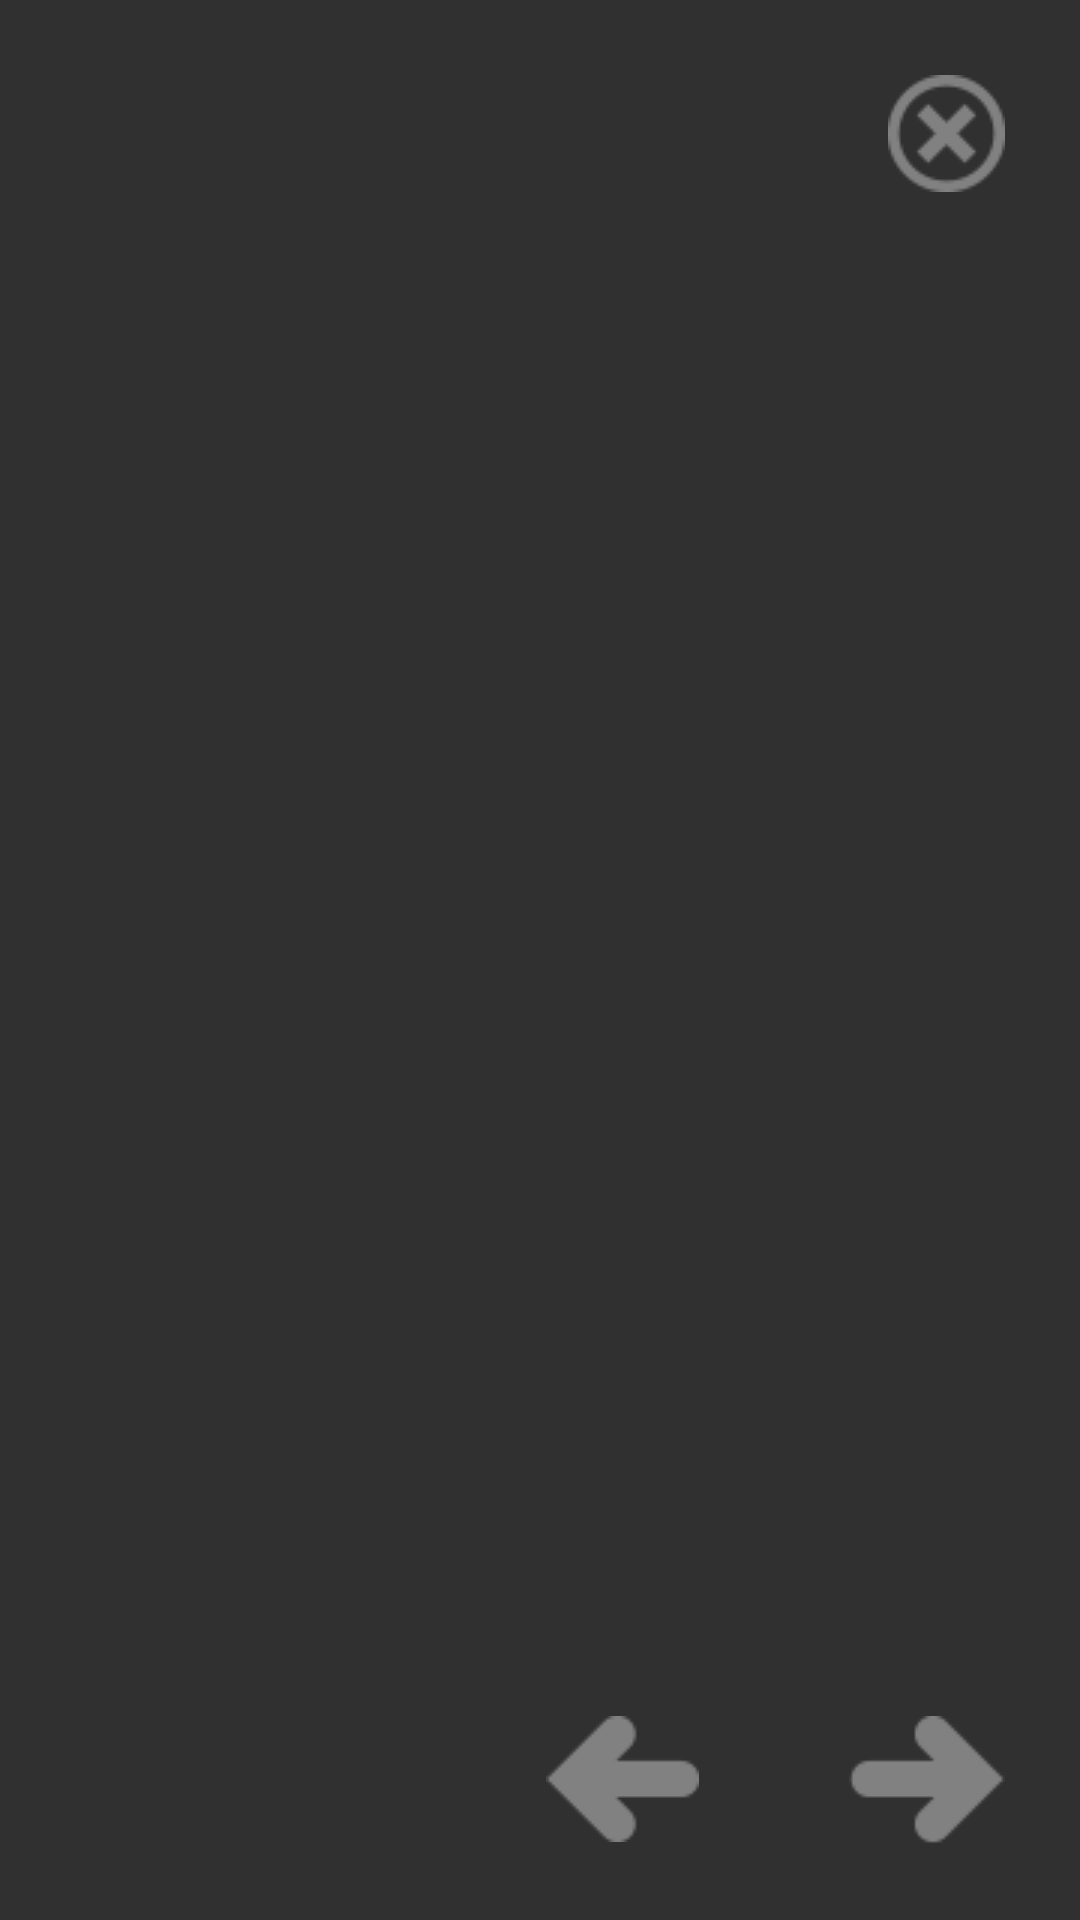

Where icons sit on this 1080*1920 app screen, as Rect(x1, y1, x2, y2):
arrow left thick: Rect(546, 1716, 699, 1842)
arrow right thick: Rect(851, 1716, 1003, 1843)
cancel circle: Rect(888, 75, 1005, 192)
